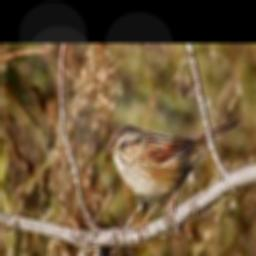Sparrow: (105, 119, 238, 241)
